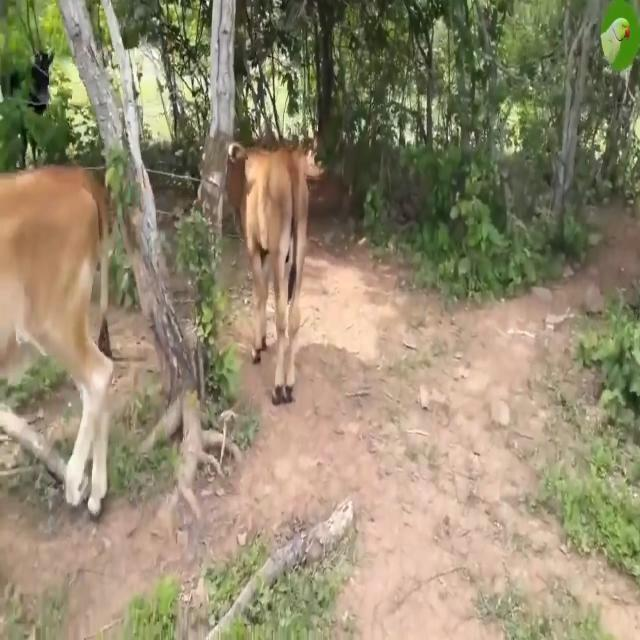cow: (0, 168, 112, 514), (242, 149, 309, 403)
